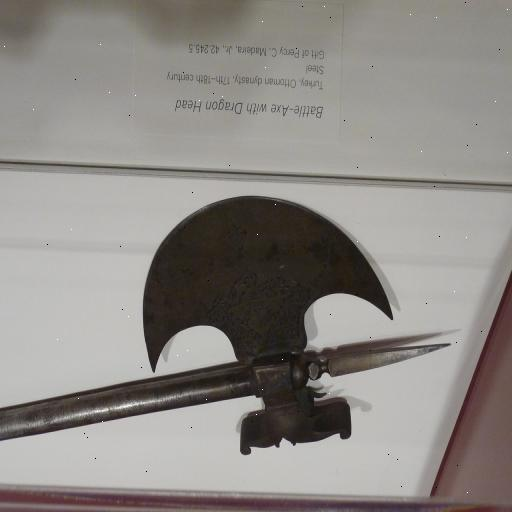Axe: (0, 196, 454, 459)
